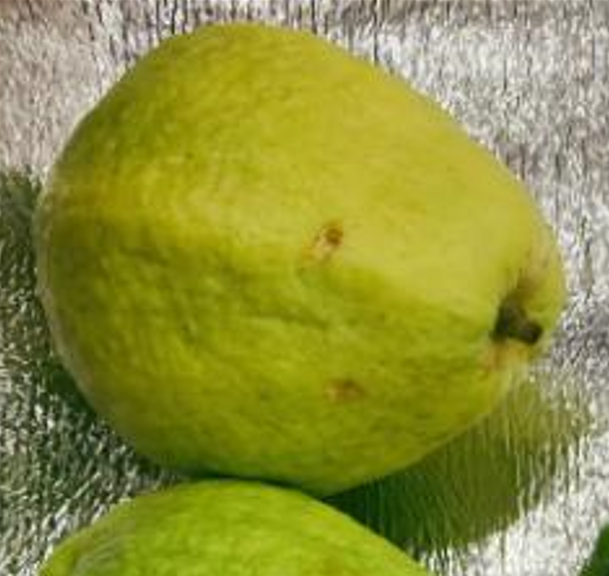guava_B: (35, 19, 568, 501)
